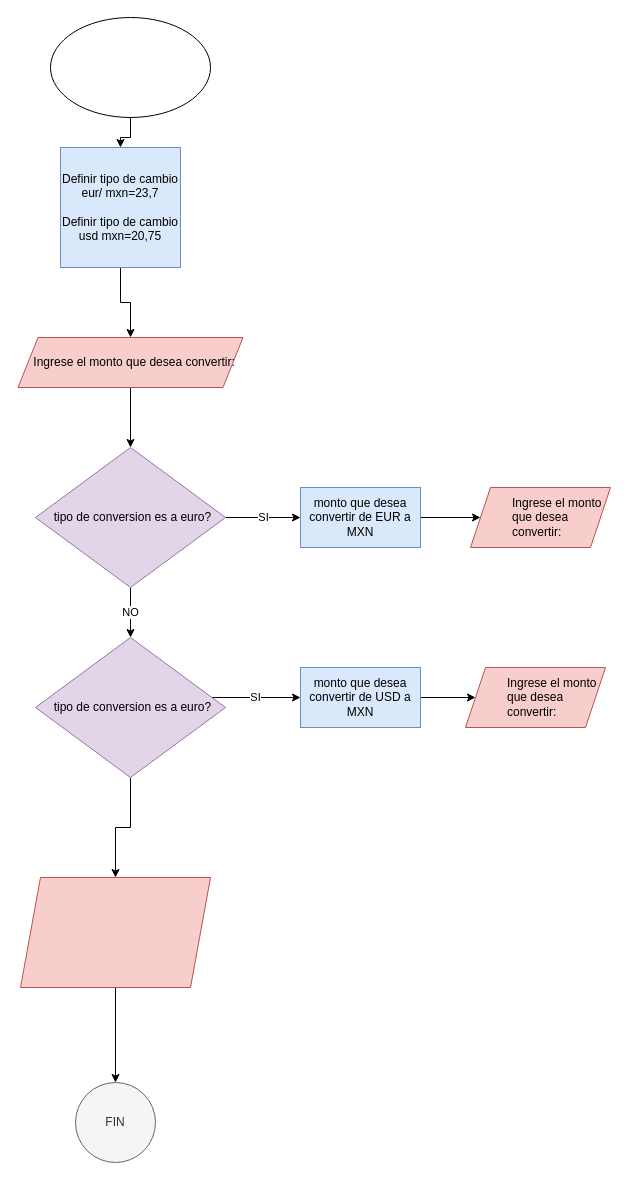
Some shapes in this 628 by 1180 pixel diagram are drawn without their labels. The shapes that lost their labels are listed below. From the top down, each one's centre as x and y in pixels, then its label:
the point at 130,67: INICIO
the point at 115,932: No esta disponible este tipo de conversion actualmente"
